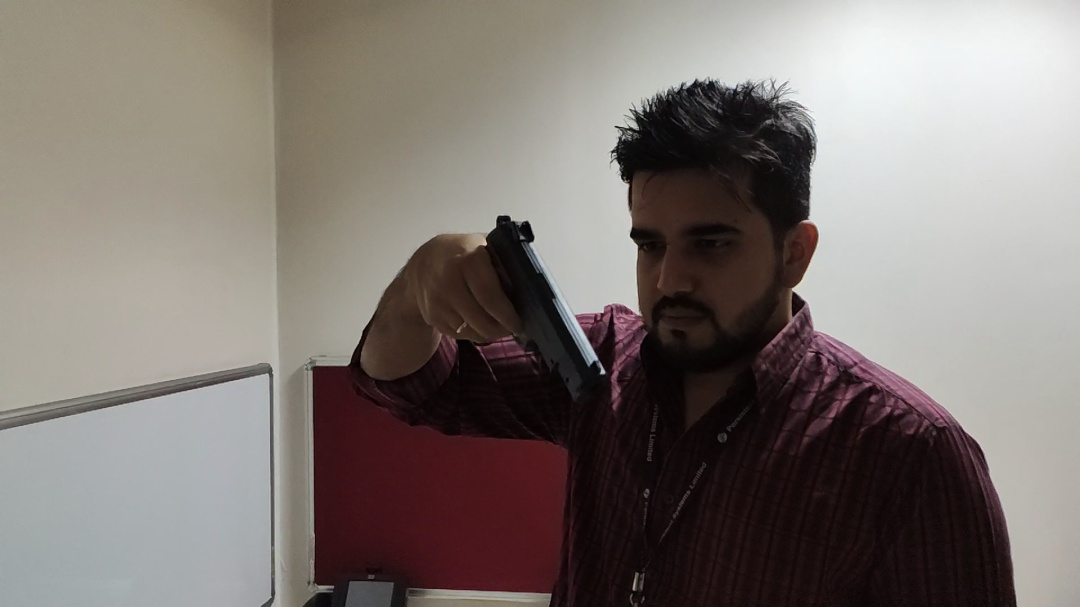gun: (451, 202, 609, 413)
